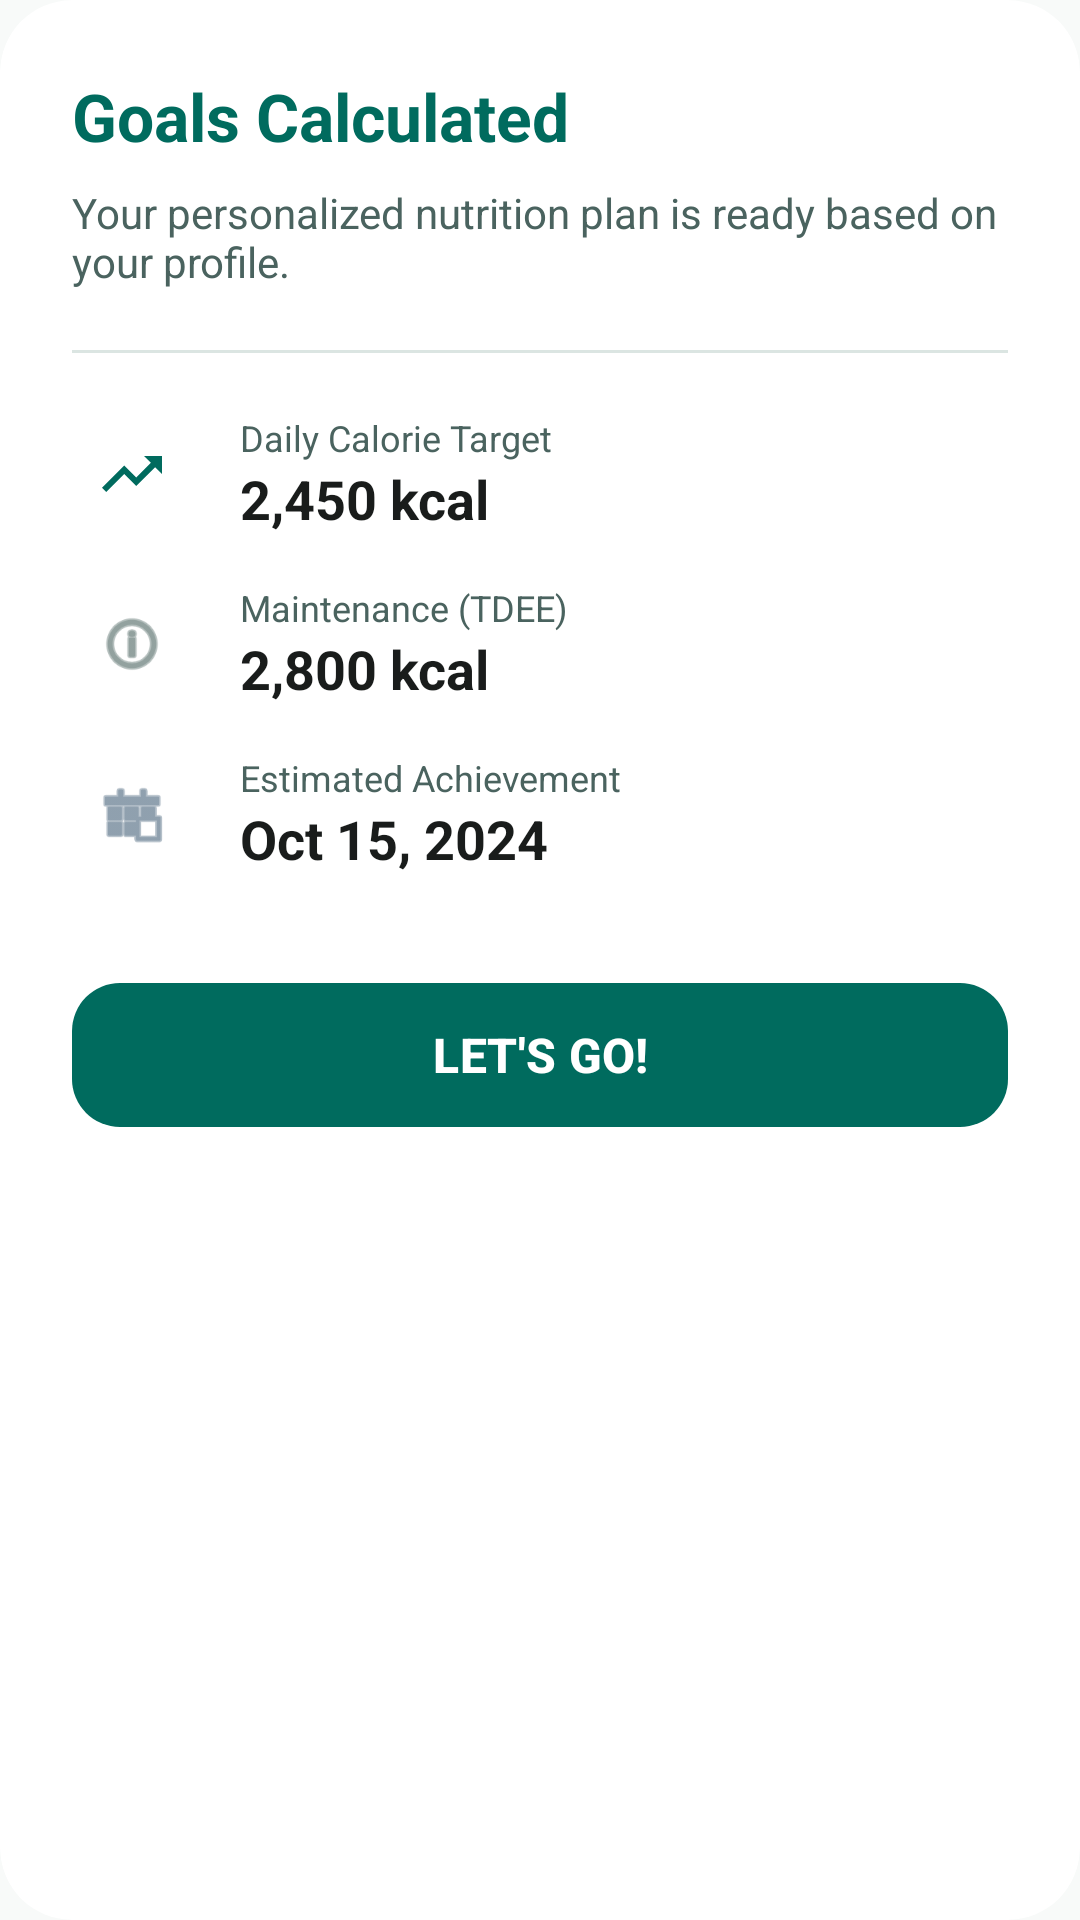

Icon click points for this 1080 × 1920 phone screenshot, format point (x, y):
info details: point (132, 644)
stats: point (132, 474)
today: point (132, 815)
